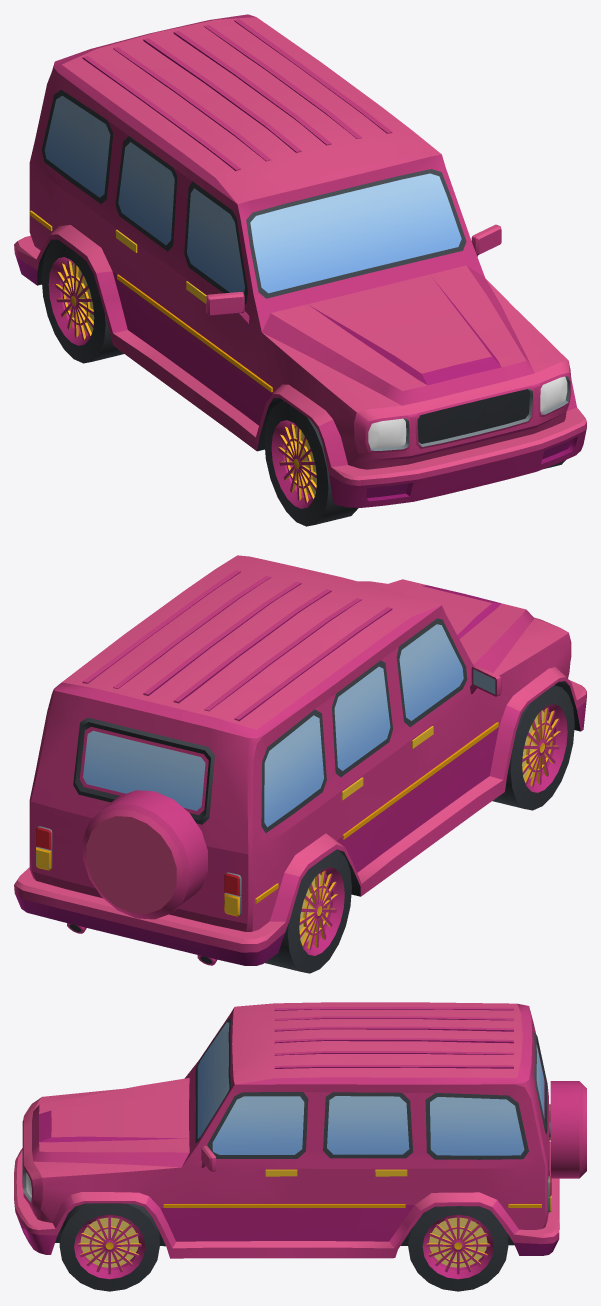
Rendered from Car_08.fbx.
The picture shows the model from 3 angles, top to bottom: view 1: azimuth 30°, elevation 25°; view 2: azimuth 150°, elevation 25°; view 3: azimuth 270°, elevation 25°; orthographic projection. The views are drawn at different scales.
Visible parts, largest first — view 1: Car_08_body1, Car_08_wheel1, Car_08_wheel2; view 2: Car_08_body1, Car_08_wheel1, Car_08_wheel2; view 3: Car_08_body1, Car_08_wheel1, Car_08_wheel2.
Part boxes in pixels (x1=…): Car_08_body1: x1=14, y1=14, x2=586, y2=507; Car_08_wheel1: x1=264, y1=401, x2=565, y2=526; Car_08_wheel2: x1=41, y1=239, x2=123, y2=363; Car_08_body1: x1=14, y1=555, x2=586, y2=965; Car_08_wheel1: x1=492, y1=685, x2=574, y2=810; Car_08_wheel2: x1=265, y1=849, x2=351, y2=973; Car_08_body1: x1=14, y1=1002, x2=586, y2=1258; Car_08_wheel1: x1=59, y1=1203, x2=159, y2=1291; Car_08_wheel2: x1=408, y1=1206, x2=508, y2=1291.
Size of the model in its own units: 0.657 by 0.5773 by 1.42.
